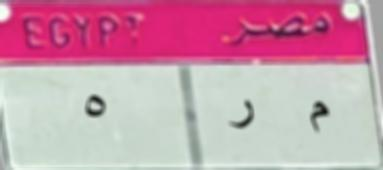5: (74, 92, 117, 122)
meem: (300, 93, 335, 137)
raa: (226, 93, 260, 138)
